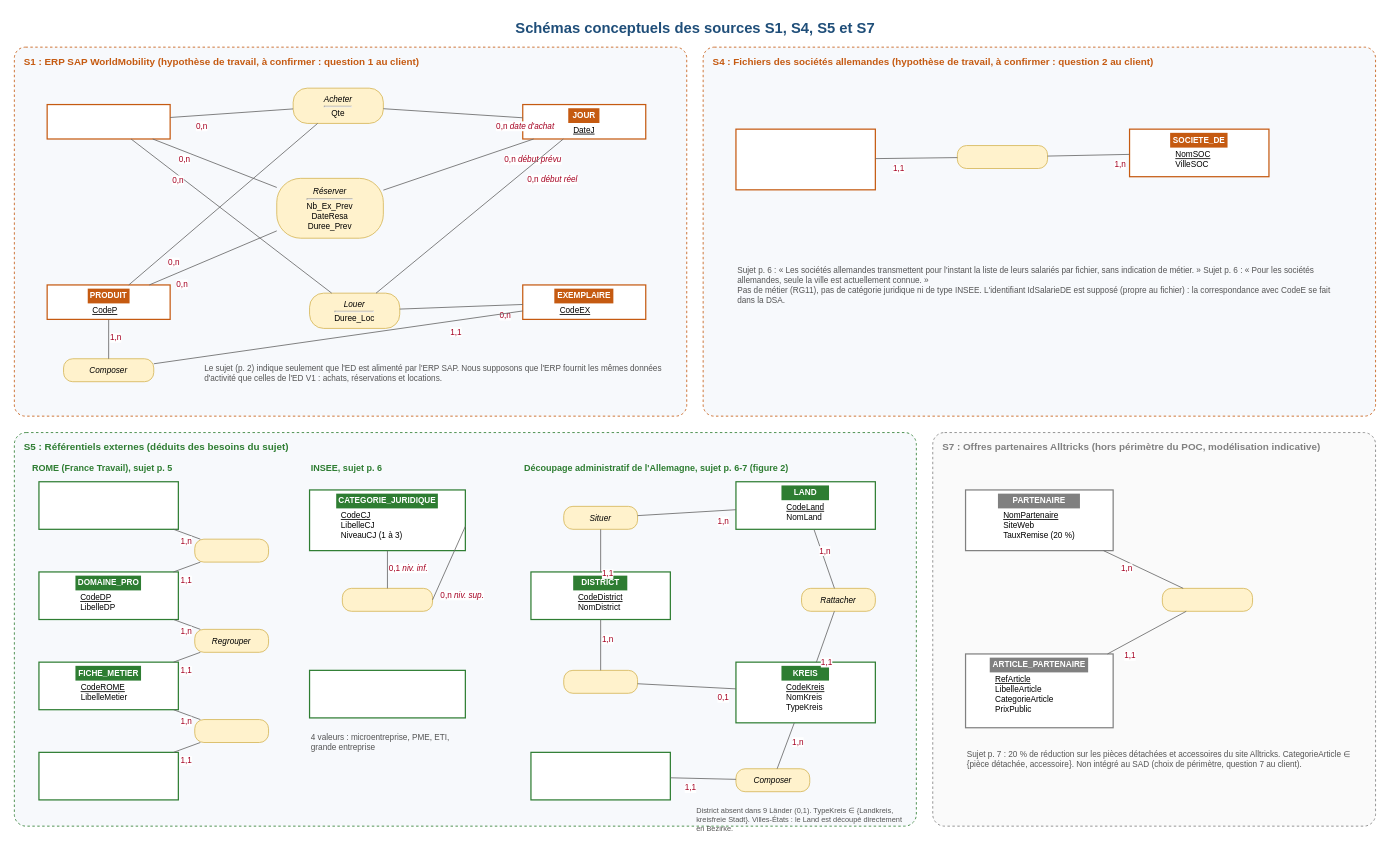
Image size: 1390x847. Some labels were removed from this diagram. The shapes that lost their labels are listed below. From the top down, each one's centre as x and y in pixels, then its label:
At (x=108, y=121): "EMPLOYE CodeE".
At (x=805, y=159): "SALARIE_DE IdSalarieDE NomSAL PrenomSAL".
At (x=1002, y=157): "Travailler".
At (x=108, y=505): "GRAND_DOMAINE CodeGD LibelleGD".
At (x=231, y=550): "Appartenir".
At (x=387, y=599): "Hiérarchiser".
At (x=1207, y=599): "Proposer".
At (x=387, y=693): "TYPE_ENTREPRISE CodeType LibelleType".
At (x=600, y=681): "Dépendre".
At (x=231, y=731): "Détailler".
At (x=108, y=775): "APPELLATION CodeAPP LibelleAPP".
At (x=600, y=775): "GEMEINDE CodeGemeinde NomGemeinde".
